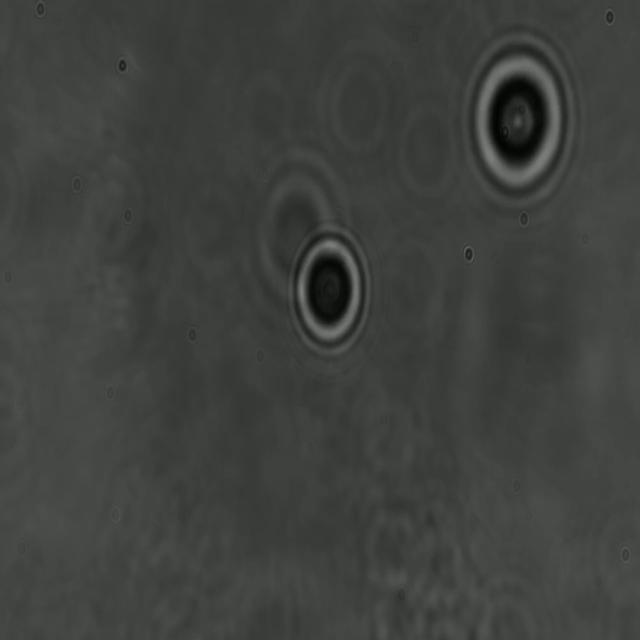DCELL: (280, 220, 376, 364)
LCELL: (453, 26, 583, 218)
